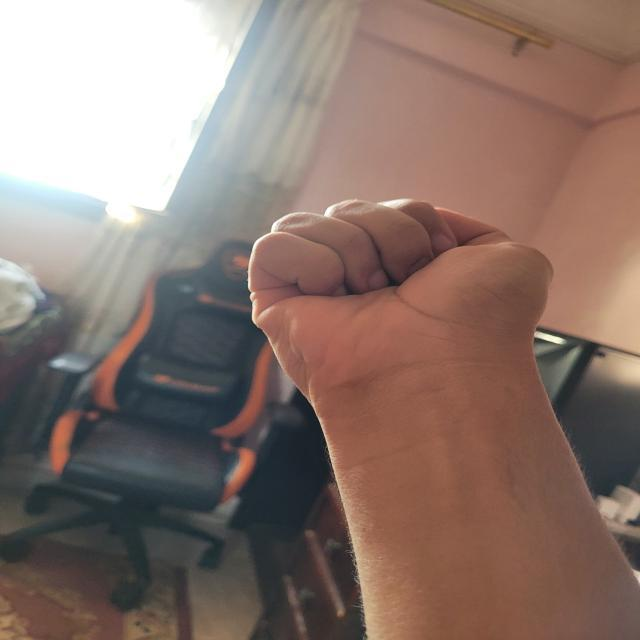Closed Hand: (245, 198, 556, 400)
